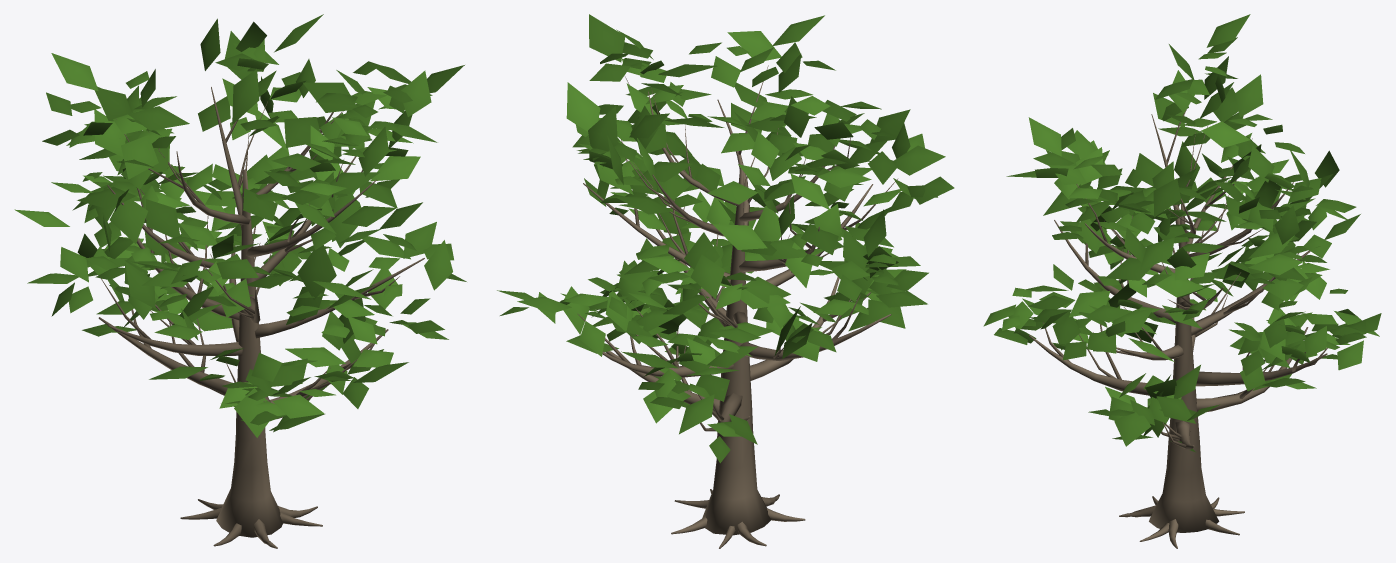
Rendered from broadleaf_spreading_lod.glb.
3 renders of one model, left to right at view 1: azimuth 30°, elevation 25°; view 2: azimuth 150°, elevation 25°; view 3: azimuth 270°, elevation 25°, orthographic. The views are drawn at different scales.
Visible parts, largest first — view 1: broadleaf_spreading_lod_leaves.001, broadleaf_spreading_lod_bark.001; view 2: broadleaf_spreading_lod_leaves.001, broadleaf_spreading_lod_bark.001; view 3: broadleaf_spreading_lod_leaves.001, broadleaf_spreading_lod_bark.001.
Part boxes in pixels (x1,y1,x2,y2): broadleaf_spreading_lod_leaves.001: (14,14,466,437); broadleaf_spreading_lod_bark.001: (98,87,424,548); broadleaf_spreading_lod_leaves.001: (497,14,954,463); broadleaf_spreading_lod_bark.001: (577,65,898,548); broadleaf_spreading_lod_leaves.001: (983,14,1381,452); broadleaf_spreading_lod_bark.001: (1029,79,1327,548).
Bounding box in the file's own units: 14.04 × 16.68 × 13.74.
